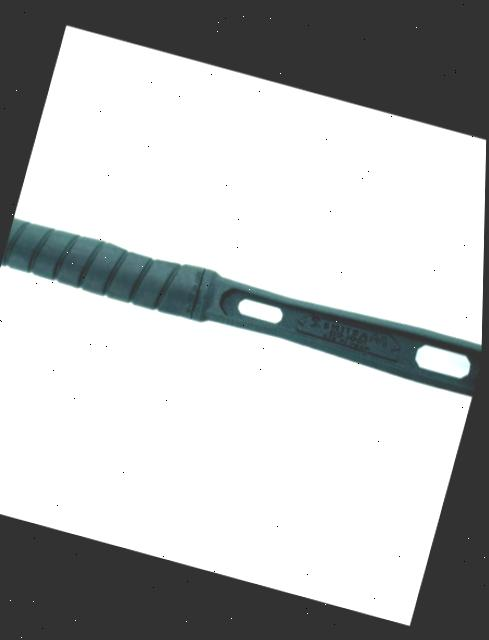hammer: (0, 107, 487, 473)
